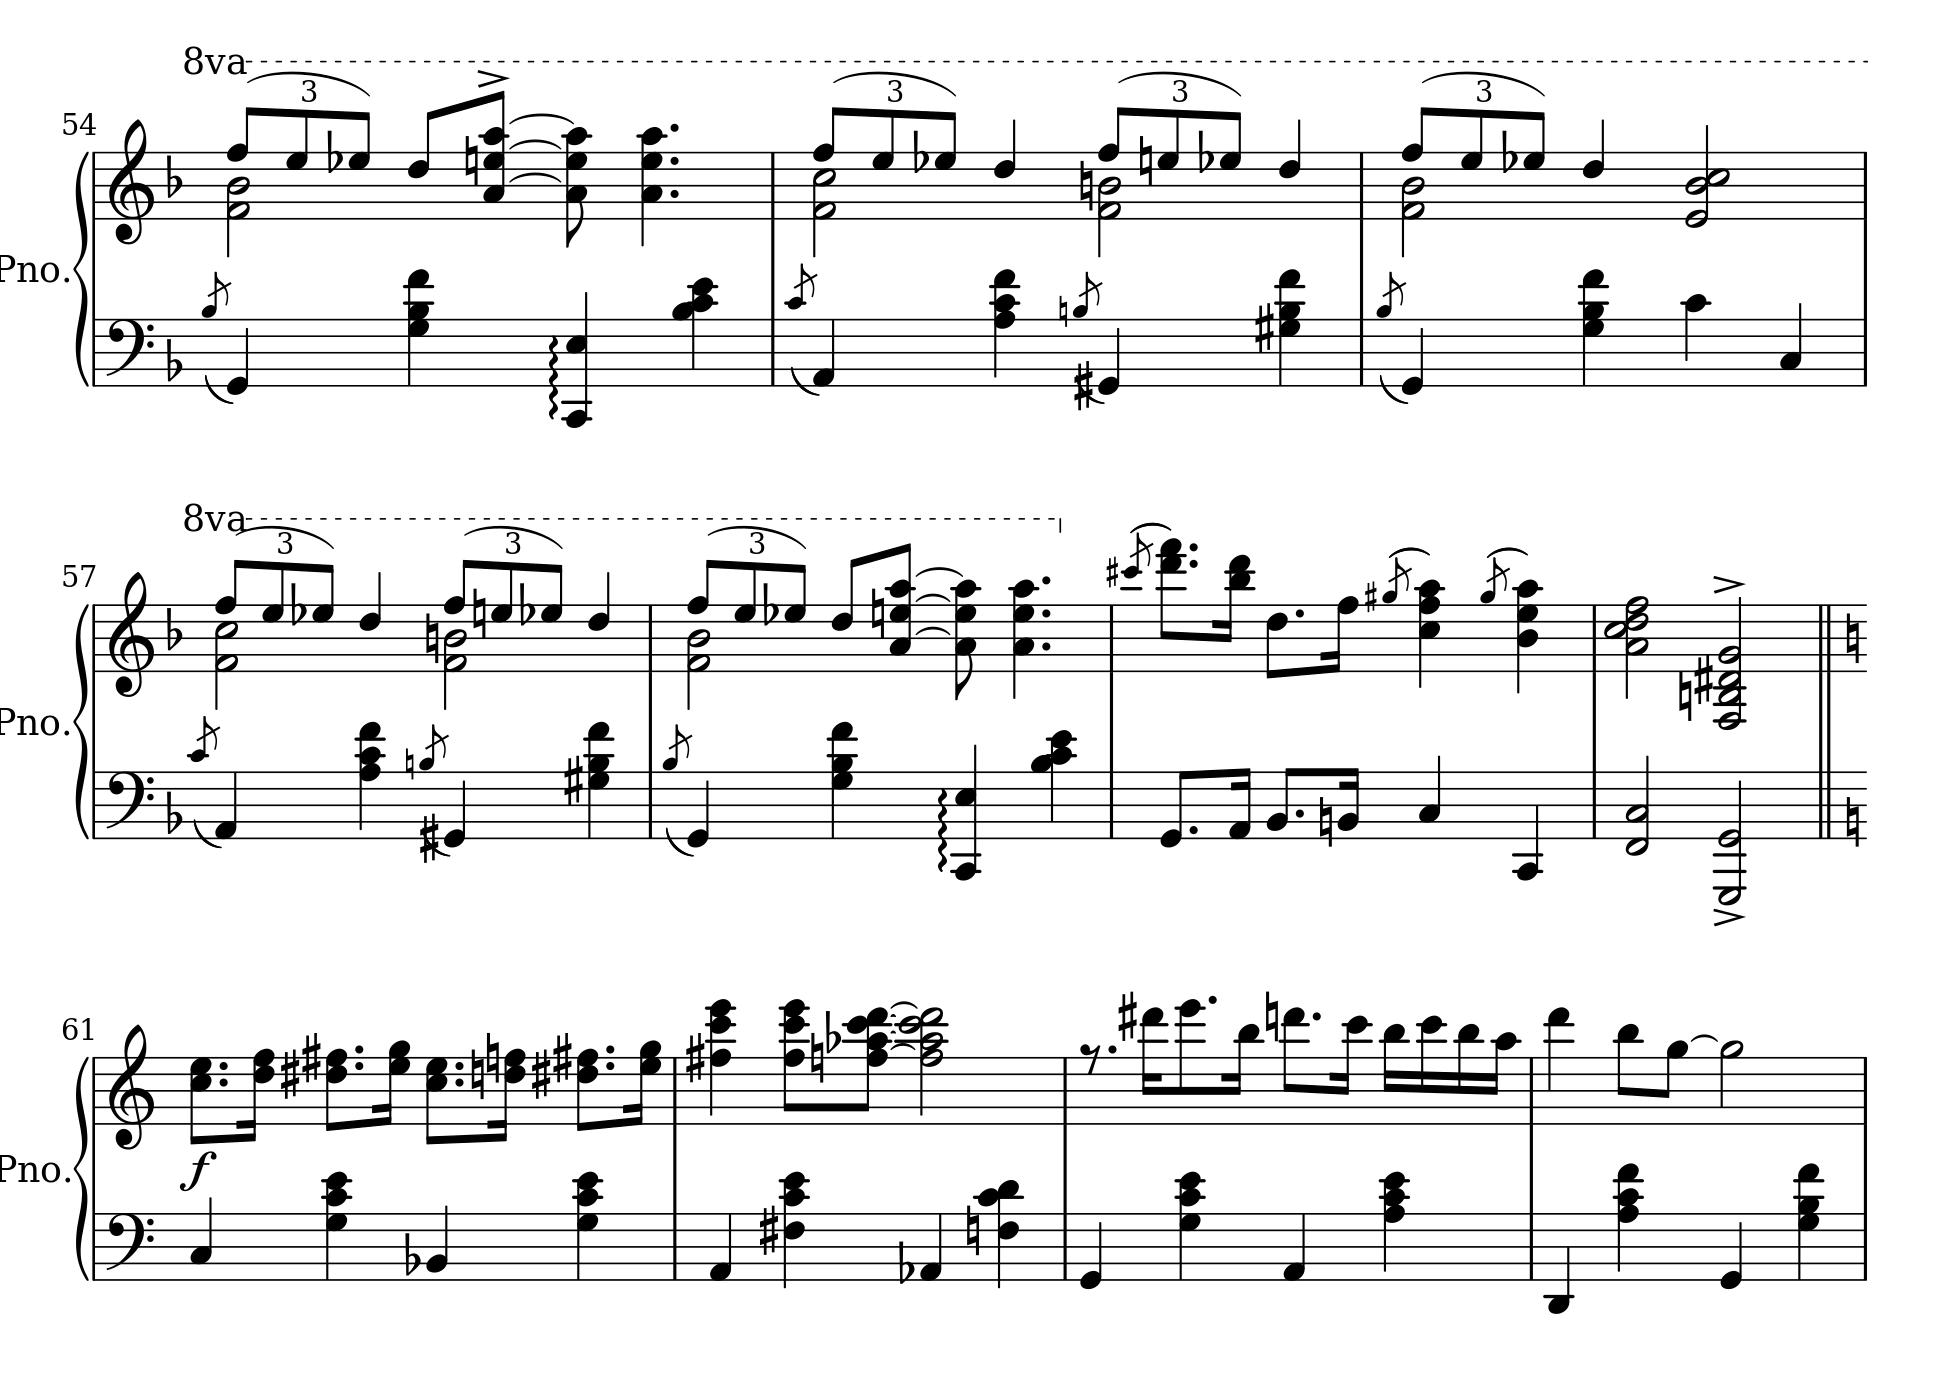1: (81, 1015, 94, 1042)
16_1: (1227, 765, 1254, 841)
16_10: (1488, 1030, 1521, 1126)
16_11: (1225, 1021, 1263, 1126), (1380, 1021, 1408, 1126), (1455, 1021, 1482, 1126)
16_11_13: (1212, 553, 1255, 676)
16_12: (1333, 1012, 1371, 1126), (1417, 1014, 1446, 1126)
16_13: (1138, 1003, 1167, 1126)
16_2: (1336, 766, 1362, 840)
16_6_8: (235, 1048, 276, 1141), (496, 1047, 528, 1143)
16_7_9: (370, 1039, 412, 1129), (624, 1039, 664, 1126)
16_8: (1323, 595, 1359, 675)
2_-1_3: (1623, 756, 1653, 856)
2_-7_0: (1711, 769, 1749, 906)
2_4th: (901, 1003, 949, 1126), (1605, 595, 1653, 699), (1716, 595, 1746, 735)
2_9: (1719, 1038, 1746, 1126)
2_th: (1684, 126, 1731, 229)
3: (298, 79, 318, 103), (1170, 79, 1189, 103), (1474, 79, 1494, 103), (886, 79, 904, 103), (276, 532, 292, 556), (504, 532, 520, 556), (748, 532, 765, 556)
4: (79, 109, 97, 136)
4_-3: (1545, 1210, 1573, 1315)
4_-4: (1513, 768, 1542, 880)
4_-4_5: (559, 291, 592, 430), (951, 744, 981, 880)
4_0: (685, 769, 711, 850), (1719, 1210, 1744, 1291), (1078, 1210, 1104, 1290), (226, 316, 250, 397), (1098, 316, 1122, 397), (1401, 316, 1425, 397), (444, 769, 466, 850)
4_1: (706, 1210, 733, 1282), (1281, 1210, 1308, 1282), (213, 769, 238, 841), (811, 316, 835, 388), (919, 1210, 943, 1282)
4_10: (1681, 292, 1711, 388)
4_13: (1543, 1006, 1575, 1126)
4_2: (424, 1201, 451, 1282)
4_3: (187, 1195, 214, 1282), (1779, 300, 1804, 388), (1419, 754, 1443, 838)
4_6: (1581, 115, 1606, 222), (357, 568, 382, 675), (993, 115, 1018, 220), (586, 568, 610, 675), (1278, 117, 1302, 222)
4_th: (970, 1179, 1023, 1288), (1030, 730, 1080, 841), (673, 274, 717, 388), (1510, 577, 1548, 696), (1272, 264, 1306, 388), (987, 264, 1021, 385), (705, 996, 736, 1125), (352, 715, 385, 838), (1413, 576, 1449, 688), (1792, 1161, 1825, 1281), (1578, 264, 1609, 387), (826, 717, 858, 840), (1612, 1158, 1644, 1278), (778, 1168, 810, 1288), (583, 717, 613, 840), (403, 265, 433, 387), (319, 1165, 351, 1281), (1174, 1165, 1206, 1281), (1378, 1165, 1410, 1281), (571, 1167, 601, 1281)
5: (61, 561, 78, 589), (61, 109, 78, 136)
6: (61, 1014, 79, 1041)
7: (79, 561, 97, 589)
8_0: (1158, 768, 1192, 849)
8_11: (1615, 1021, 1642, 1126)
8_13: (1279, 1005, 1311, 1126)
8_13_15: (1156, 535, 1188, 673)
8_14: (1176, 997, 1206, 1126)
8_2: (1266, 765, 1297, 840)
8_4th: (847, 1003, 894, 1126)
8_5_7: (187, 1054, 217, 1146), (423, 1054, 450, 1147)
8_6: (406, 106, 442, 223), (829, 555, 862, 675), (1264, 601, 1288, 681)
8_6_8: (322, 1047, 349, 1132), (574, 1047, 600, 1132)
8_7: (283, 108, 310, 220), (1156, 106, 1182, 223), (732, 559, 757, 673), (870, 108, 895, 220), (1459, 108, 1485, 220), (346, 109, 372, 220), (933, 109, 958, 220), (1218, 109, 1243, 220), (1522, 109, 1548, 220), (259, 562, 285, 673), (310, 562, 336, 673), (540, 562, 565, 673), (783, 562, 808, 673), (490, 561, 513, 673)
8_9: (1659, 1039, 1689, 1126)
8_th: (778, 997, 810, 1126)
Accent_above: (1711, 571, 1746, 592), (475, 67, 508, 88), (1710, 907, 1746, 925)
Acciaccature: (186, 715, 220, 841), (783, 262, 817, 384), (417, 718, 450, 844), (1477, 553, 1512, 673), (199, 271, 232, 391), (1374, 271, 1407, 385), (1383, 553, 1413, 676), (1074, 268, 1104, 390), (661, 724, 691, 835)
Arpeggio: (936, 786, 949, 874), (547, 334, 561, 421)
Brace: (70, 603, 91, 835), (72, 150, 91, 384), (72, 1051, 91, 1282)
Double_barline: (1813, 769, 1837, 838), (1813, 604, 1837, 670)
Fclef: (103, 1210, 157, 1282), (103, 316, 156, 390), (103, 769, 154, 841)
Flat: (163, 151, 184, 199), (163, 604, 184, 652), (163, 336, 184, 382), (163, 789, 183, 835), (895, 1237, 913, 1287), (289, 579, 307, 627), (517, 579, 535, 627), (760, 579, 778, 627), (325, 127, 343, 174), (910, 127, 928, 174), (1197, 127, 1215, 174), (1500, 127, 1518, 174), (823, 1006, 841, 1053), (402, 1230, 420, 1276)
Gclef: (106, 568, 154, 699), (106, 117, 154, 246), (106, 1021, 154, 1150)
Natural: (1842, 792, 1863, 849), (1843, 610, 1863, 666), (1077, 157, 1095, 214), (868, 585, 886, 640), (1317, 793, 1335, 849), (1677, 667, 1695, 723), (1137, 133, 1155, 187), (964, 1204, 982, 1258), (484, 1030, 501, 1087), (423, 610, 439, 666), (462, 133, 478, 187), (471, 586, 487, 640), (808, 1030, 825, 1084), (469, 1045, 484, 1102), (1264, 988, 1279, 1042), (1057, 292, 1071, 328), (403, 745, 415, 781)
Pno: (1, 1150, 61, 1188), (1, 250, 60, 288), (1, 703, 60, 739)
Rests8: (1080, 1041, 1102, 1075)
Sharp: (529, 1045, 552, 1102), (417, 810, 439, 865), (279, 1047, 301, 1102), (684, 1030, 706, 1084), (1116, 988, 1138, 1042), (757, 1204, 780, 1258), (1072, 358, 1095, 411), (1254, 300, 1275, 355), (1693, 652, 1714, 708), (301, 1030, 322, 1084), (552, 1030, 573, 1084), (562, 754, 583, 807), (1104, 553, 1119, 589), (1363, 579, 1378, 613)
Single_barline: (1522, 1056, 1540, 1123), (1855, 1056, 1873, 1123), (642, 769, 658, 838), (1855, 1212, 1872, 1279), (765, 319, 781, 385), (1353, 319, 1369, 385), (642, 604, 658, 670), (1587, 604, 1603, 670), (1057, 1057, 1074, 1123), (666, 1213, 682, 1279), (1057, 1213, 1074, 1279), (763, 153, 780, 217), (1353, 153, 1369, 217), (87, 151, 102, 219), (1524, 1212, 1539, 1279), (1857, 151, 1872, 217), (1857, 319, 1872, 385), (1104, 771, 1119, 837), (1587, 771, 1602, 837), (667, 1057, 682, 1123), (1104, 604, 1119, 669), (88, 319, 102, 385), (88, 604, 102, 670), (88, 771, 102, 837), (88, 1213, 102, 1278), (88, 1056, 100, 1123)
Slur: (1119, 69, 1245, 97), (1422, 69, 1542, 96), (832, 67, 954, 91), (235, 523, 337, 550), (460, 522, 565, 547), (703, 522, 808, 547), (244, 69, 367, 88), (190, 817, 226, 849), (661, 825, 697, 856), (787, 364, 820, 397), (202, 373, 237, 405), (1377, 373, 1411, 403), (505, 169, 562, 184), (508, 136, 564, 151), (508, 112, 576, 124), (1389, 544, 1432, 559), (1128, 520, 1173, 534), (1486, 544, 1530, 558), (916, 565, 964, 577), (913, 625, 952, 637), (913, 592, 952, 603), (889, 1000, 919, 1011), (888, 1041, 918, 1051), (1689, 1033, 1719, 1042)
dot: (1038, 571, 1054, 588), (1039, 604, 1056, 621), (1185, 538, 1201, 553), (667, 120, 682, 135), (667, 153, 682, 168), (667, 186, 682, 201), (1206, 991, 1221, 1006), (1186, 555, 1201, 568), (1293, 604, 1306, 619), (216, 1057, 229, 1072), (351, 1057, 366, 1071), (603, 1057, 616, 1072), (1186, 822, 1200, 835), (453, 1059, 466, 1072), (216, 1075, 231, 1087), (451, 1075, 466, 1087), (1041, 639, 1053, 652), (1293, 805, 1306, 817), (1311, 1009, 1323, 1023), (351, 1042, 364, 1054), (603, 1042, 616, 1054)
f: (178, 1149, 217, 1191)
